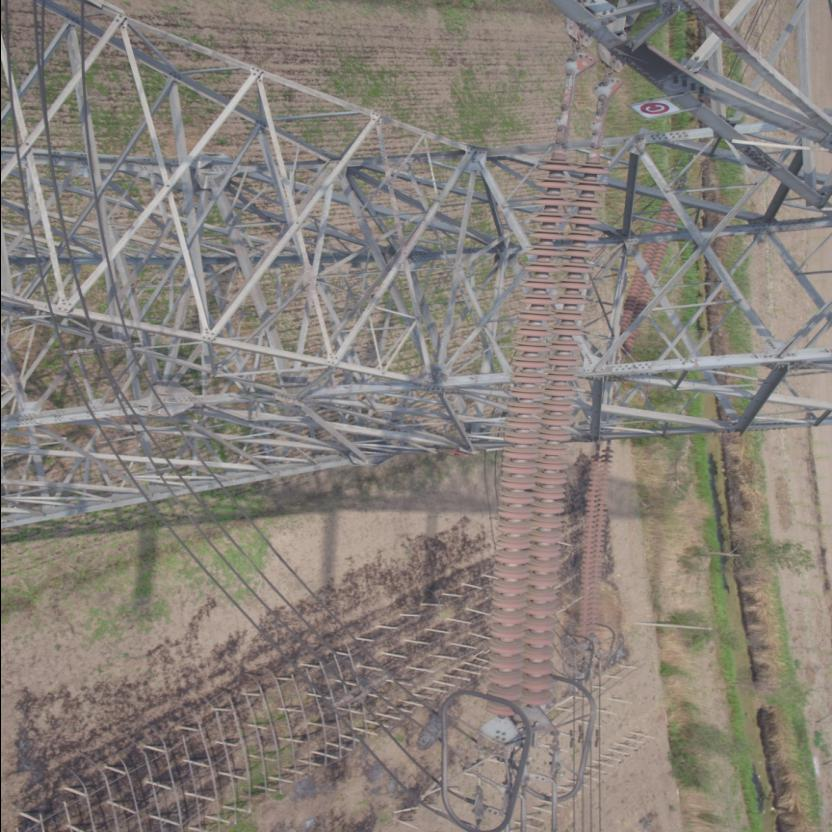insulator: (480, 124, 614, 724), (572, 443, 616, 647)
